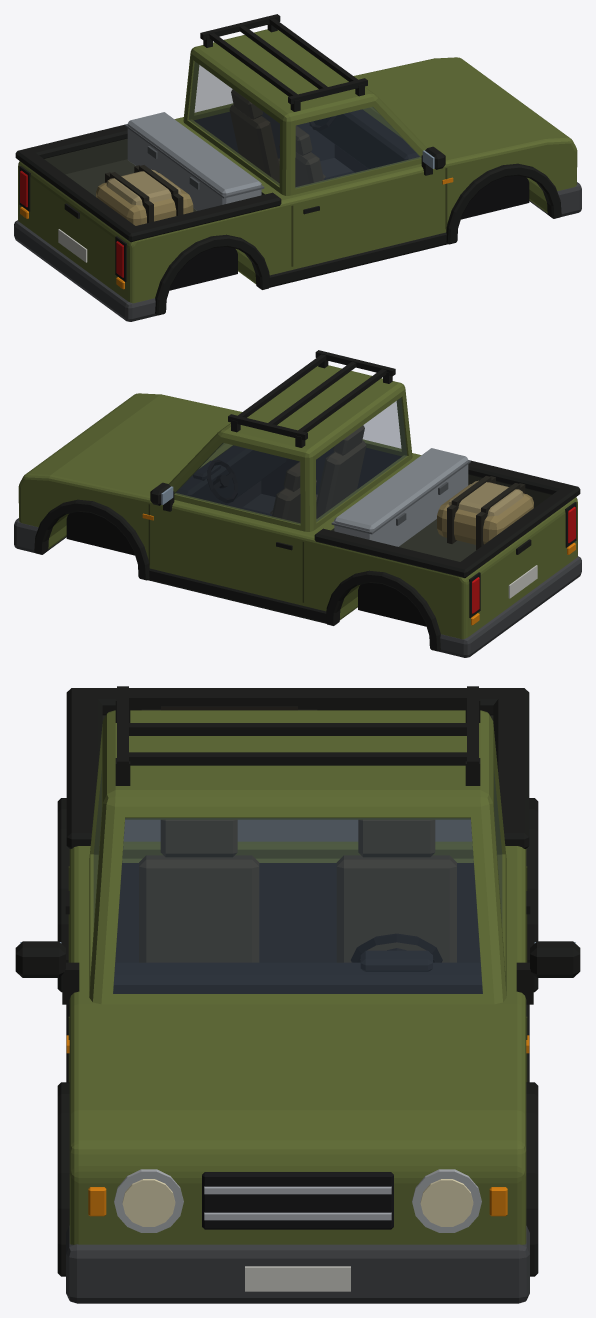
File: mule.glb
The picture shows the model from 3 angles, top to bottom: view 1: azimuth 30°, elevation 25°; view 2: azimuth 150°, elevation 25°; view 3: azimuth 270°, elevation 25°; orthographic projection. The views are drawn at different scales.
Visible parts, largest first — view 1: Body, Details, Glass, Interior, TailLights; view 2: Body, Details, Glass, Interior, TailLights; view 3: Body, Glass, Interior, Details, HeadLights.
Boxes of the visible parts, x1,y1,x2,y2 form: Body: (14, 29, 581, 321); Details: (96, 14, 445, 225); Glass: (189, 62, 421, 188); Interior: (229, 89, 419, 186); TailLights: (20, 170, 123, 277); Body: (14, 365, 581, 657); Details: (150, 350, 533, 549); Glass: (174, 398, 406, 524); Interior: (176, 425, 366, 522); TailLights: (472, 506, 575, 613); Body: (57, 688, 538, 1303); Glass: (94, 773, 501, 993); Interior: (113, 819, 482, 993); Details: (15, 686, 580, 1004); HeadLights: (122, 1179, 473, 1226).
Size of the model in its own units: 4.4 by 1.59 by 2.35.
